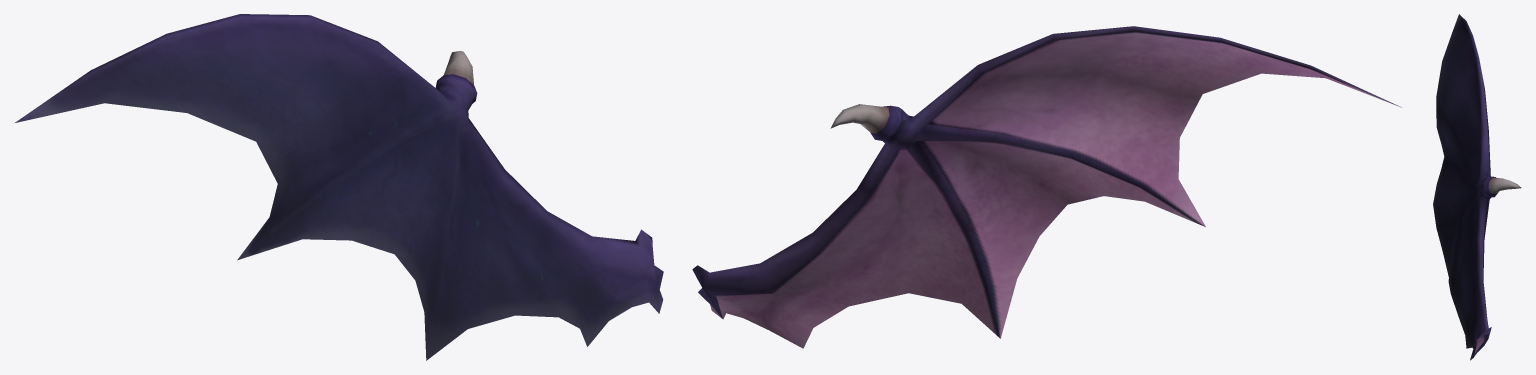
File: Metaalaizquierda.fbx
The picture shows the model from 3 angles, left to right: view 1: azimuth 30°, elevation 25°; view 2: azimuth 150°, elevation 25°; view 3: azimuth 270°, elevation 25°; orthographic projection. The views are drawn at different scales.
Visible parts, largest first — view 1: alaizquierda; view 2: alaizquierda; view 3: alaizquierda.
Boxes of the visible parts, <box> form: alaizquierda: <box>15,14,663,360</box>; alaizquierda: <box>692,26,1401,348</box>; alaizquierda: <box>1433,14,1521,360</box>.
Size of the model in its own units: 602 by 353 by 136.
